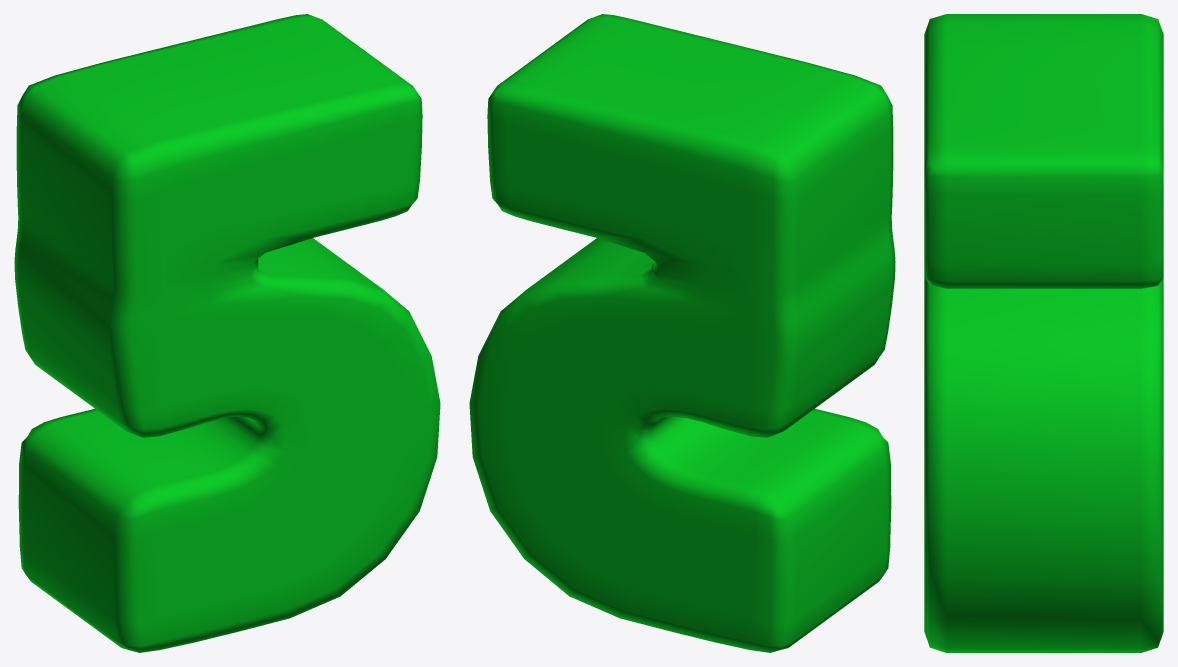
3 renders of one model, left to right at view 1: azimuth 30°, elevation 25°; view 2: azimuth 150°, elevation 25°; view 3: azimuth 270°, elevation 25°, orthographic. The views are drawn at different scales.
Parts seen in each view (by area): view 1: A:Mesh5_numbers_0; view 2: A:Mesh5_numbers_0; view 3: A:Mesh5_numbers_0.
Boxes of the visible parts, left/top/right/bottom form: A:Mesh5_numbers_0: left=14, top=14, right=440, bottom=652; A:Mesh5_numbers_0: left=469, top=14, right=895, bottom=652; A:Mesh5_numbers_0: left=924, top=14, right=1163, bottom=652.
Size of the model in its own units: 23.04 by 34.08 by 13.53.
